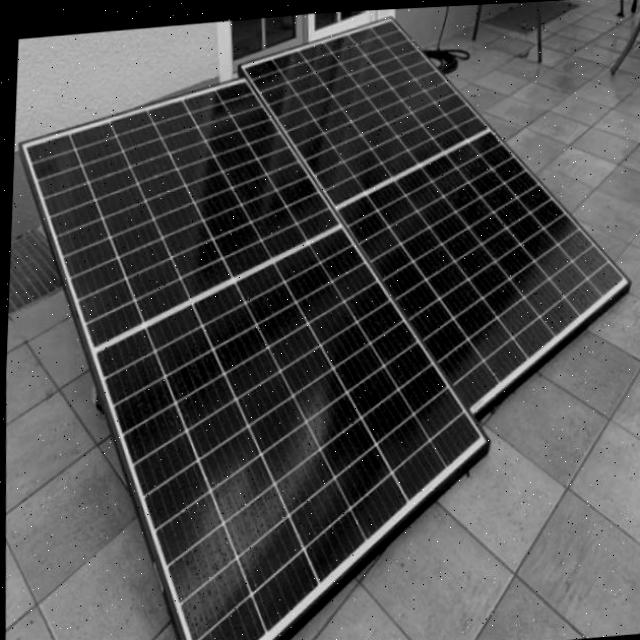Normal Solar Panel: (2, 55, 503, 640), (229, 1, 640, 430)
